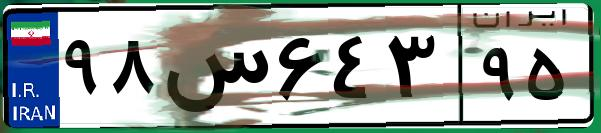3: (385, 28, 445, 110)
4: (330, 28, 385, 110)
5: (525, 38, 570, 115)
6: (270, 28, 330, 110)
8: (110, 28, 158, 98)
9: (57, 26, 110, 100), (475, 38, 525, 113)
س: (158, 20, 270, 120)
